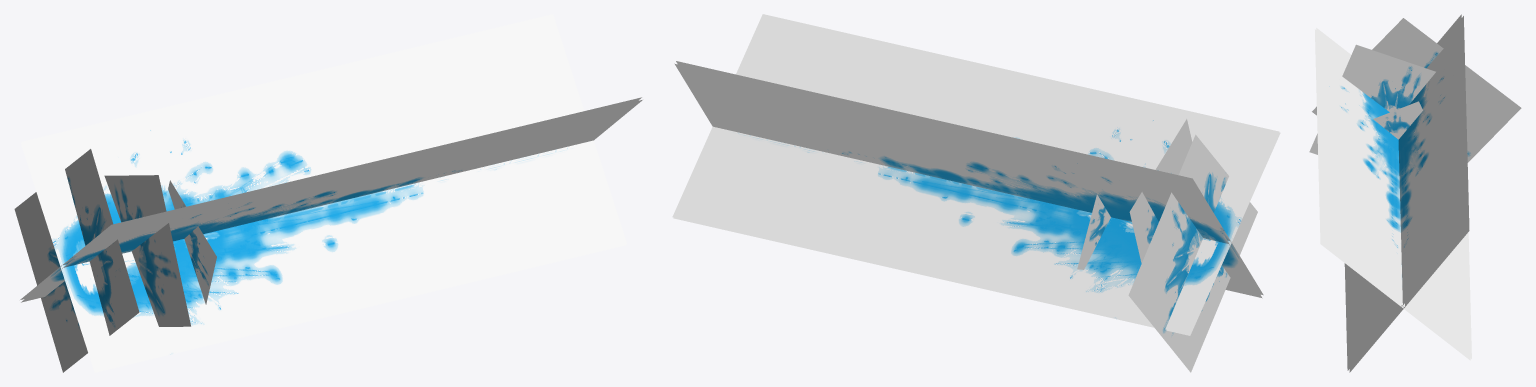
Rendered from Fire.FBX.
3 renders of one model, left to right at view 1: azimuth 30°, elevation 25°; view 2: azimuth 150°, elevation 25°; view 3: azimuth 270°, elevation 25°, orthographic. The views are drawn at different scales.
Parts seen in each view (by area): view 1: Plane003; view 2: Plane003; view 3: Plane003.
Boxes of the visible parts, x1=… form: Plane003: x1=14, y1=14, x2=642, y2=372; Plane003: x1=672, y1=14, x2=1280, y2=372; Plane003: x1=1309, y1=14, x2=1521, y2=372.
Size of the model in its own units: 0.0979 by 0.0408 by 0.0416.
Materials: 1 (1 with a texture image).
